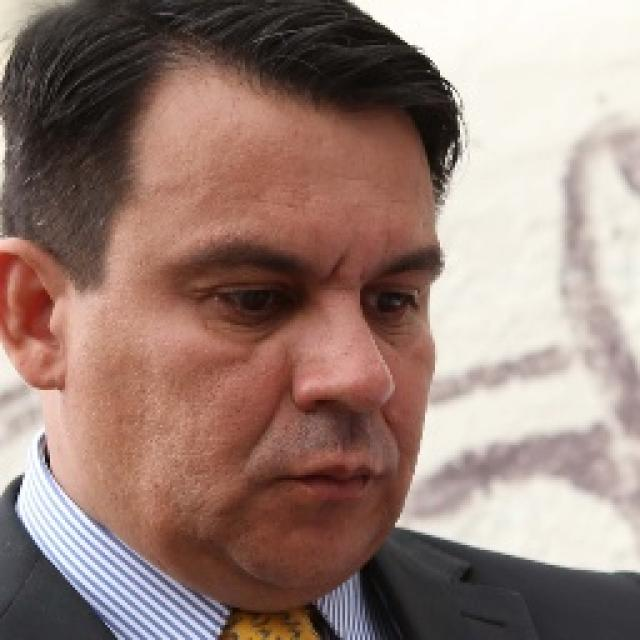earlobe: (22, 342, 70, 390)
eye: (204, 276, 292, 323), (363, 282, 426, 323)
nose: (288, 396, 385, 456)
wholeear: (0, 239, 72, 390)
